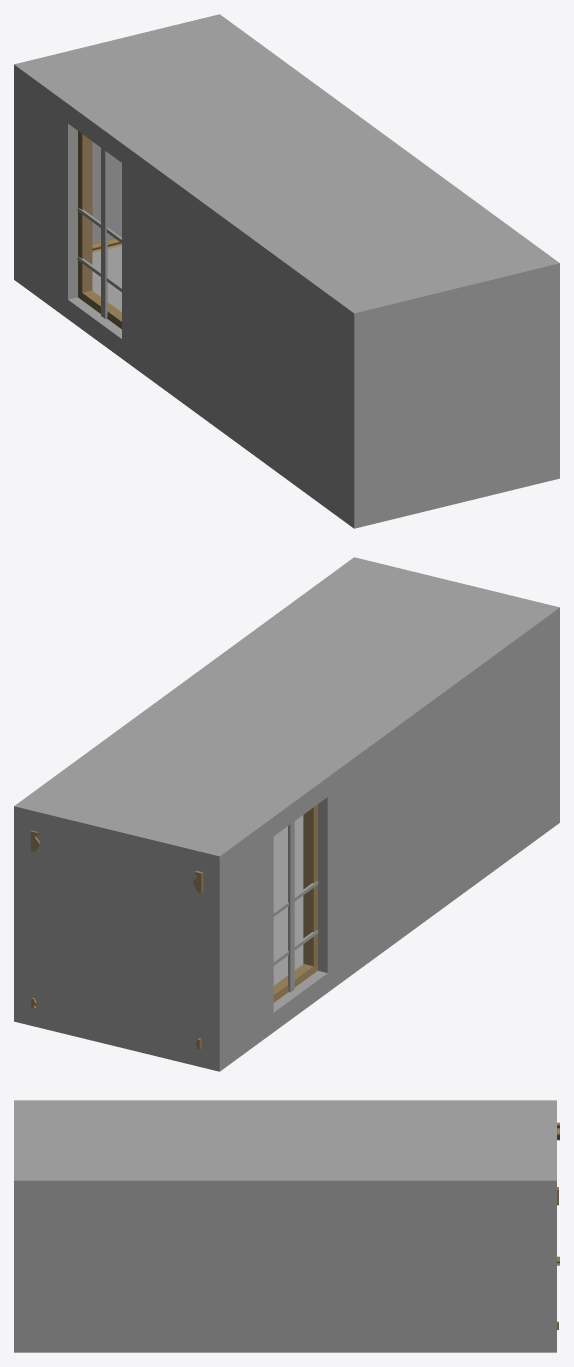
Rendered from TestRoom.fbx.
The picture shows the model from 3 angles, top to bottom: view 1: azimuth 30°, elevation 25°; view 2: azimuth 150°, elevation 25°; view 3: azimuth 270°, elevation 25°; orthographic projection. The views are drawn at different scales.
Visible parts, largest first — view 1: roof, wall_2, wall_3, wall_5, floor, wall_1, window_frame, wall_4, window1; view 2: roof, wall_2, wall_4, wall_5, floor, wall_1, wall_3, window_frame, window1; view 3: wall_1, roof, floor, wall_3, wall_2, wall_5.
Part boxes in pixels (x1,y1,x2,y2): roof: (14, 14, 559, 332); wall_2: (122, 139, 372, 528); wall_3: (343, 262, 559, 527); wall_5: (14, 60, 86, 318); floor: (14, 246, 354, 528); wall_1: (202, 15, 558, 267); window_frame: (78, 131, 121, 329); wall_4: (92, 141, 121, 242); window1: (77, 148, 121, 318); roof: (14, 557, 559, 875); wall_2: (311, 603, 556, 990); wall_4: (23, 828, 210, 1058); wall_5: (201, 812, 273, 1071); floor: (14, 803, 559, 1071); wall_1: (14, 558, 372, 1024); wall_3: (347, 558, 559, 823); window_frame: (273, 804, 317, 1002); window1: (273, 821, 318, 992); wall_1: (14, 1173, 556, 1352); roof: (14, 1100, 556, 1196); floor: (14, 1337, 556, 1352); wall_3: (14, 1100, 31, 1351); wall_2: (14, 1100, 384, 1107); wall_5: (471, 1100, 556, 1107).
Size of the model in its own units: 11 by 11 by 31.67.
